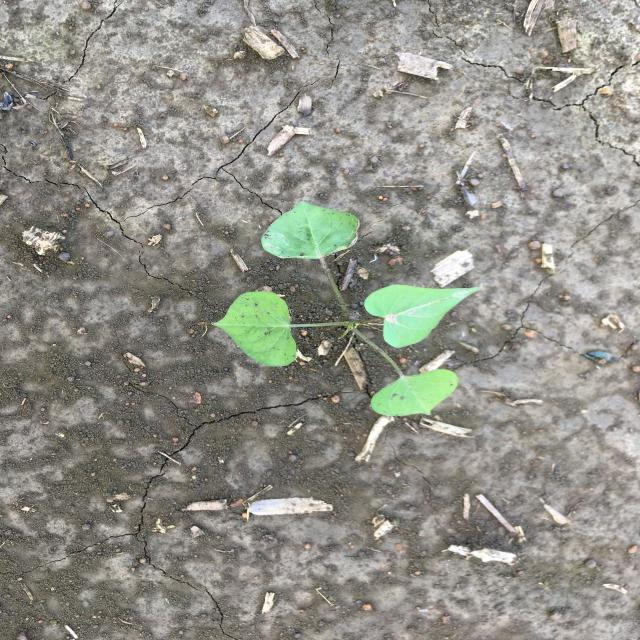MorningGlory: (208, 200, 488, 421)
